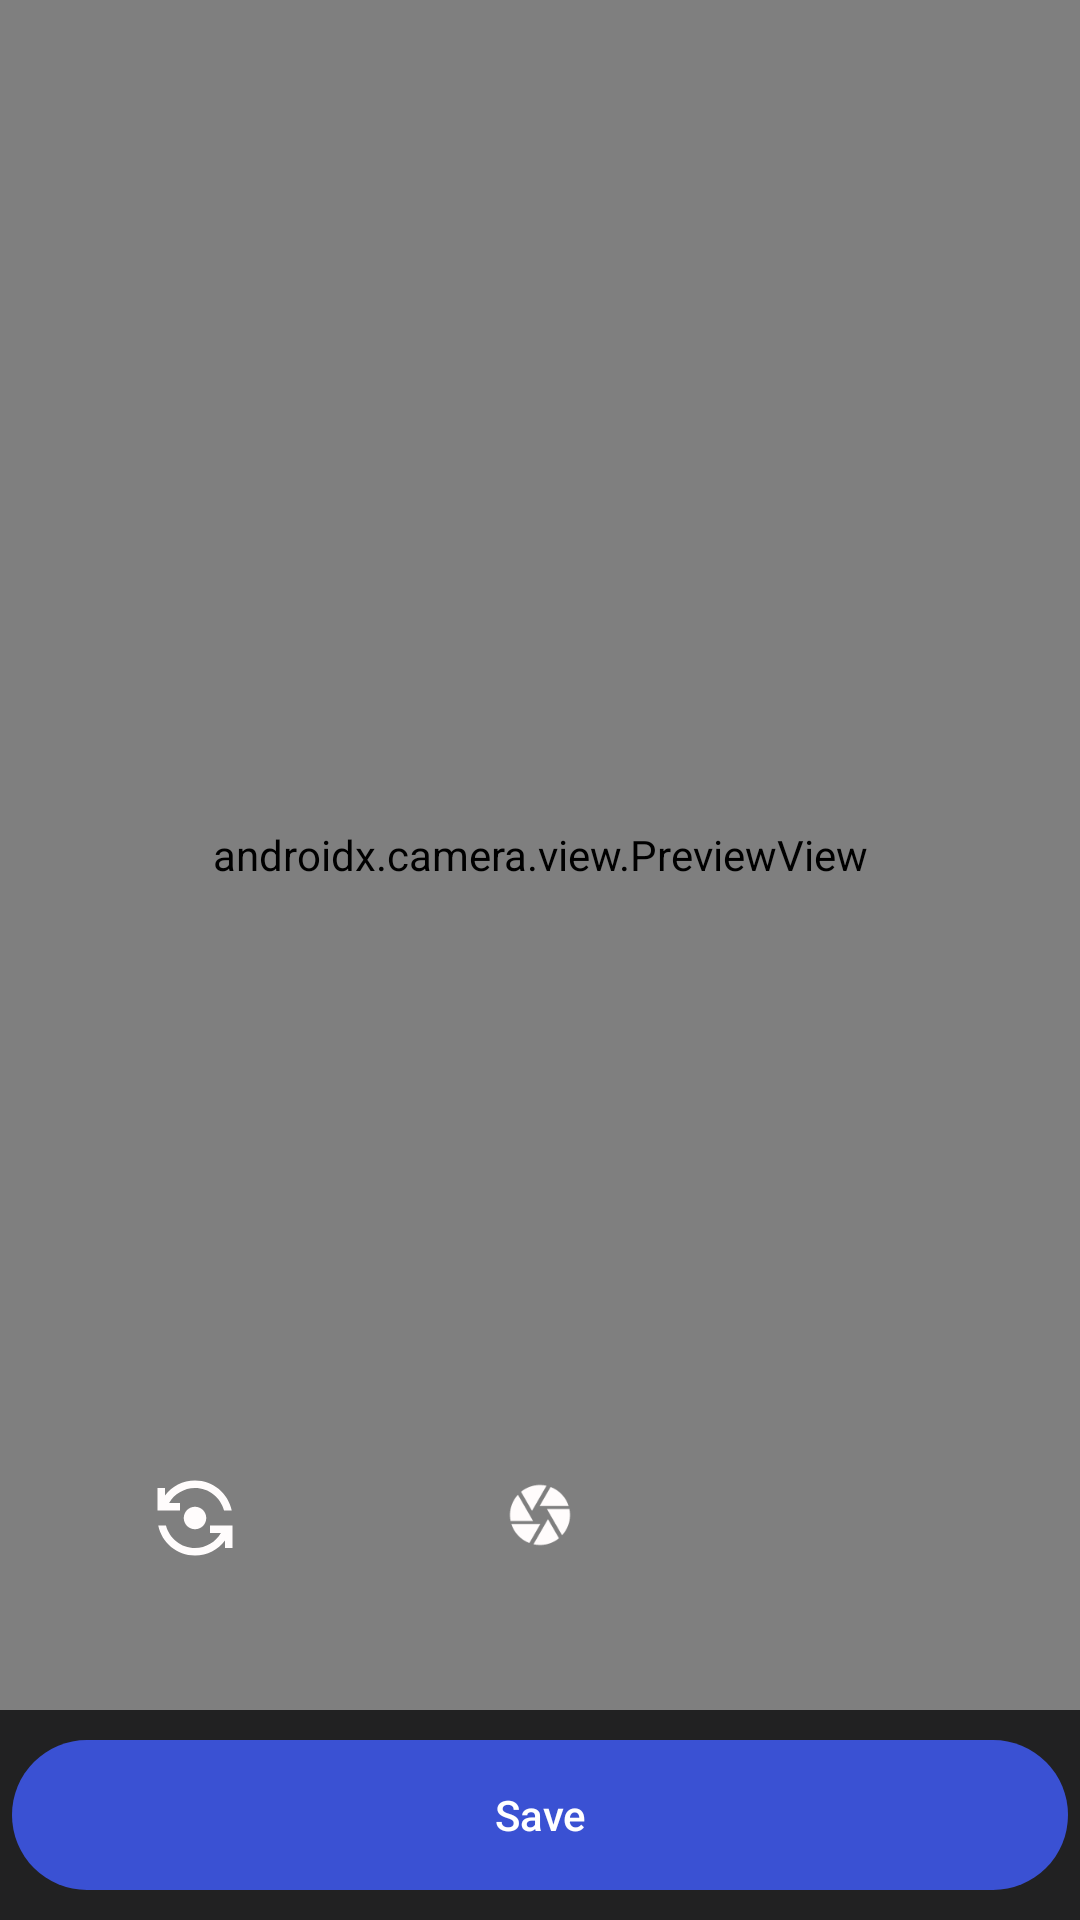

Icons on this 1080*1920 Android screen, each with its box as (left=x1, top=y1, right=x2, bottom=y2):
flip camera android: (left=157, top=1480, right=233, bottom=1556)
